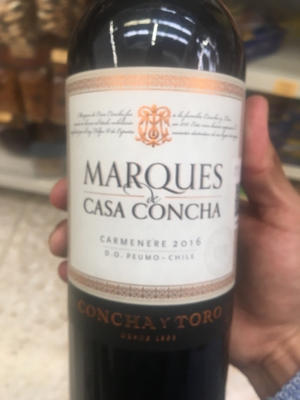marques de casa concha carmenere: (65, 7, 254, 400)
